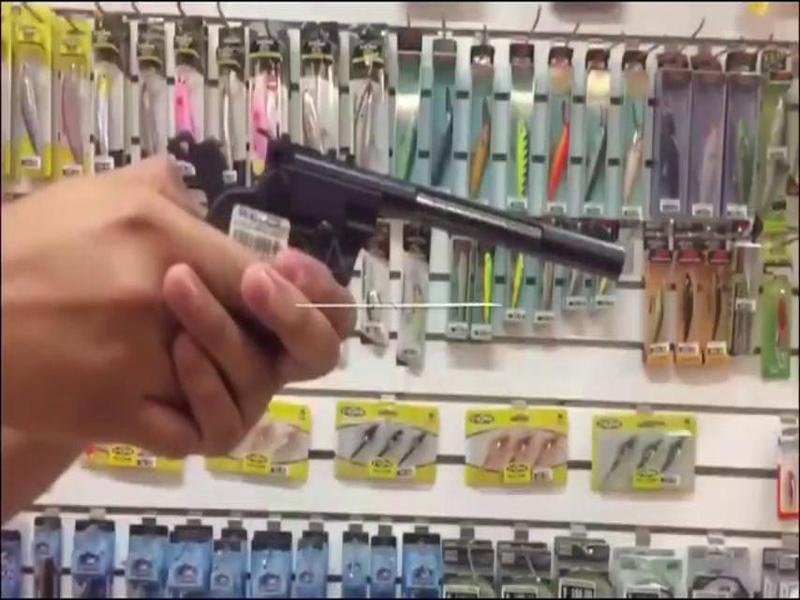Pistola: (135, 112, 642, 399)
